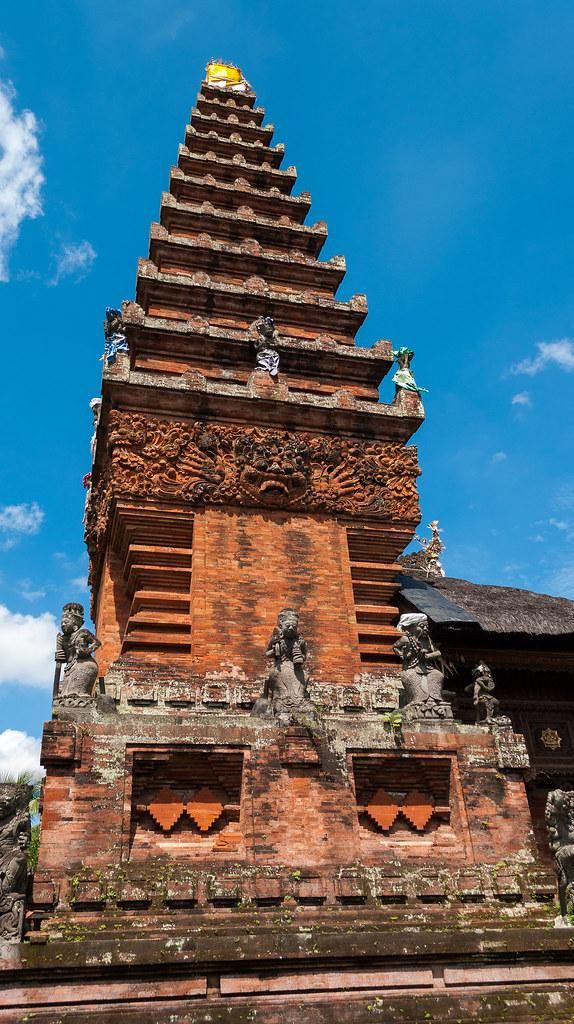temple: (14, 55, 572, 977)
